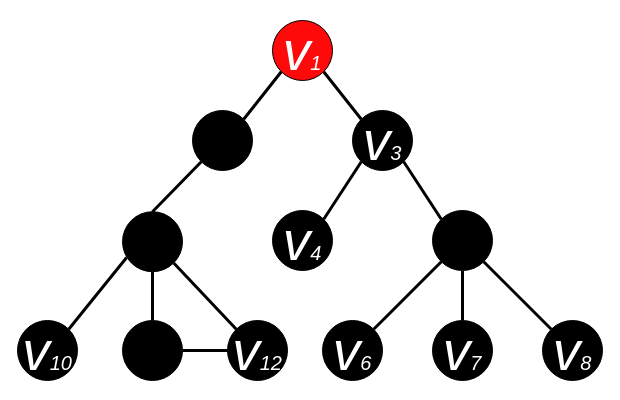
This 620x400 diagram has some shape labels left out. The shapes that lost their labels are listed below. From the top down, each one's centre as x and y in pixels, then its label:
point 222,140: v 2
point 152,241: v 9
point 462,240: v 5
point 152,350: v 11
